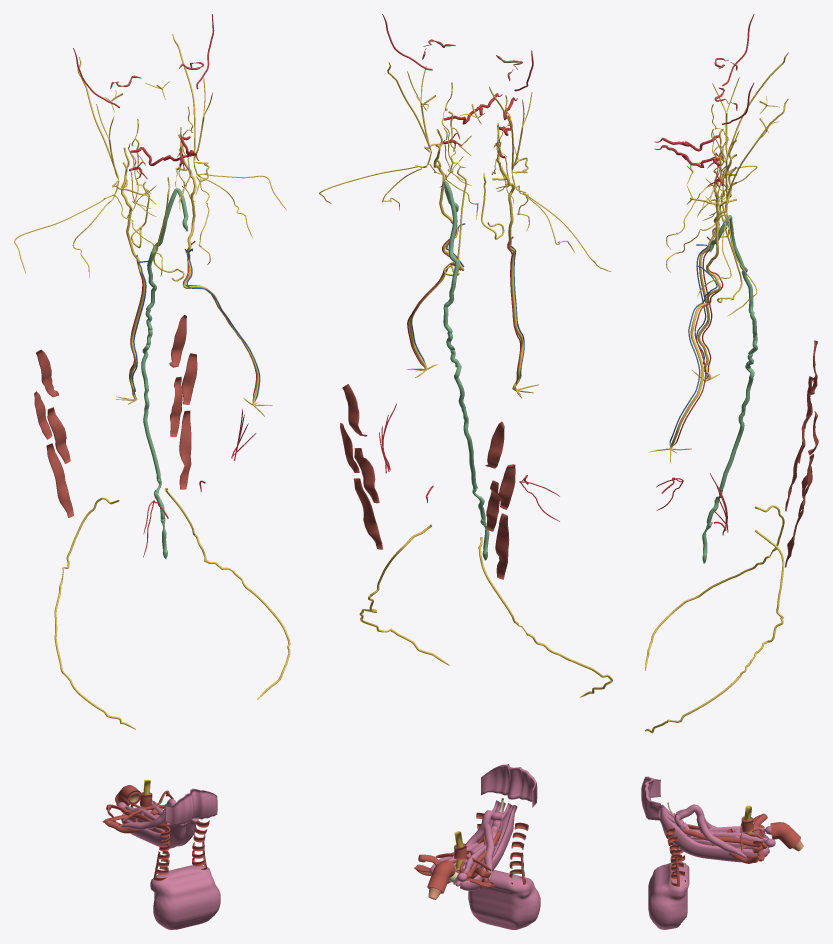
The model's file is handmade.glb.
3 renders of one model, left to right at view 1: azimuth 30°, elevation 25°; view 2: azimuth 150°, elevation 25°; view 3: azimuth 270°, elevation 25°, orthographic. The views are drawn at different scales.
Visible parts, largest first — view 1: Scrotum, Subcostal muscles.l, Subcostal muscles.r, Thoracic duct, Mons pubis, Phrenic nerve.l, Phrenic nerve.r, Subcostal nerve.r, Labium majus.r, Subcostal nerve.l, Supraclavicular nerves.r; view 2: Scrotum, Subcostal muscles.r, Subcostal muscles.l, Thoracic duct, Mons pubis, Phrenic nerve.r, Labium majus.r, Phrenic nerve.l, Subcostal nerve.r, Subcostal nerve.l; view 3: Scrotum, Thoracic duct, Labium majus.l, Phrenic nerve.l, Subcostal nerve.l, Phrenic nerve.r, Mons pubis, Subcostal muscles.r, Subcostal muscles.l, Subcostal nerve.r, Crus of clitoris.l, Supraclavicular nerves.l (+3 smaller).
Boxes of the visible parts, x1,y1,x2,y2 form: Scrotum: (150,865,220,929); Subcostal muscles.l: (169,315,197,489); Subcostal muscles.r: (34,349,73,517); Thoracic duct: (141,188,188,552); Mons pubis: (165,788,217,825); Phrenic nerve.l: (175,134,272,416); Phrenic nerve.r: (116,147,145,404); Subcostal nerve.r: (54,497,135,729); Labium majus.r: (121,813,186,848); Subcostal nerve.l: (164,488,290,699); Supraclavicular nerves.r: (14,181,162,277); Scrotum: (468,870,540,929); Subcostal muscles.r: (485,421,515,579); Subcostal muscles.l: (340,384,383,549); Thoracic duct: (443,181,489,554); Mons pubis: (481,764,537,807); Phrenic nerve.r: (492,143,538,398); Labium majus.r: (453,803,517,890); Phrenic nerve.l: (406,129,464,377); Subcostal nerve.r: (478,537,612,697); Subcostal nerve.l: (359,524,449,665); Scrotum: (648,861,689,929); Thoracic duct: (702,215,757,556); Labium majus.l: (659,810,769,862); Phrenic nerve.l: (649,166,736,462); Subcostal nerve.l: (645,530,784,733); Phrenic nerve.r: (692,139,737,381); Mons pubis: (641,776,660,820); Subcostal muscles.r: (785,340,817,511); Subcostal muscles.l: (785,411,818,567); Subcostal nerve.r: (645,505,784,670); Crus of clitoris.l: (676,804,747,858); Supraclavicular nerves.l: (666,199,757,316).
Size of the model in its own units: 0.2839 by 0.8971 by 0.1652.
